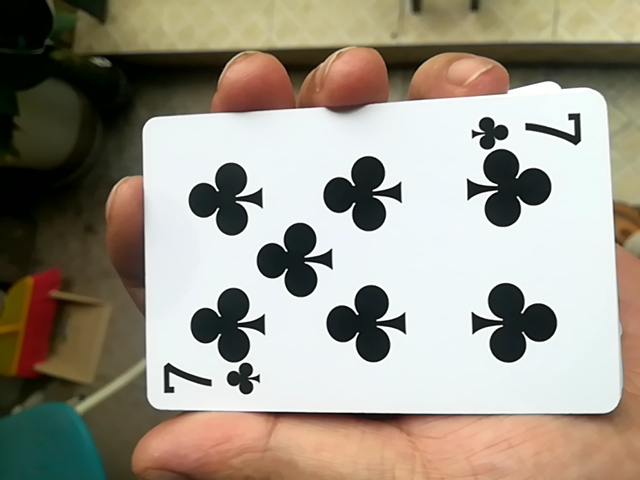mh 7: (124, 97, 613, 426)
